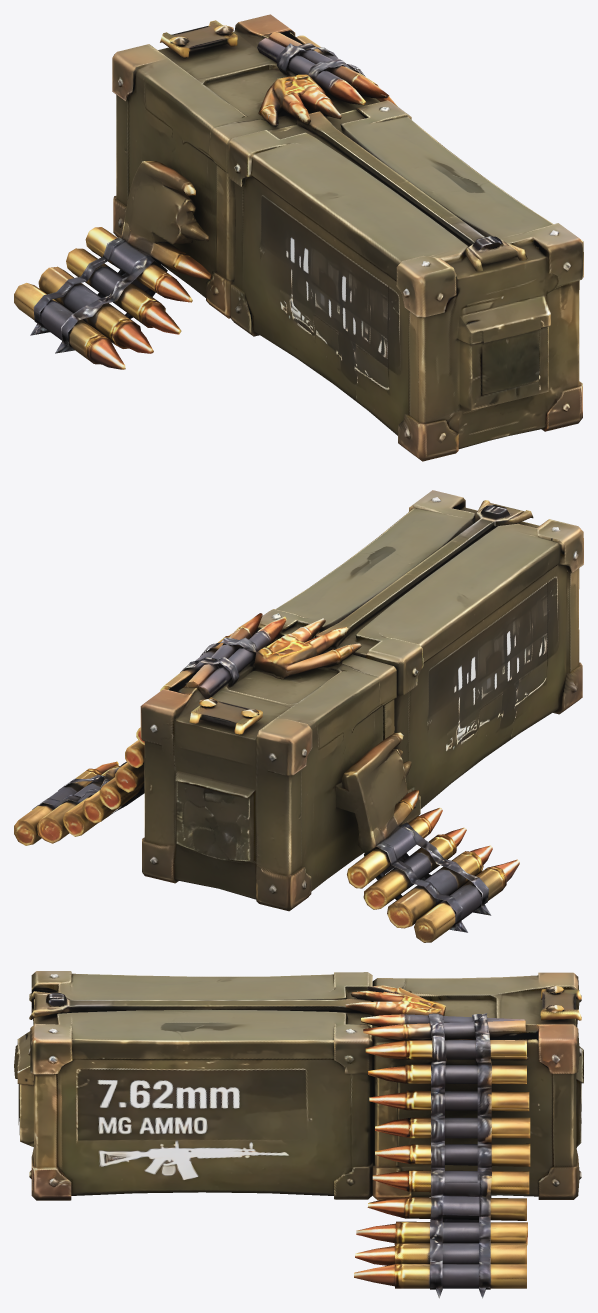
File: base_basic_shaded.glb
The picture shows the model from 3 angles, top to bottom: view 1: azimuth 30°, elevation 25°; view 2: azimuth 150°, elevation 25°; view 3: azimuth 270°, elevation 25°; orthographic projection. The views are drawn at different scales.
Visible parts, largest first — view 1: model; view 2: model; view 3: model.
Boxes of the visible parts, x1,y1,x2,y2 form: model: (14,14,583,461); model: (14,490,583,942); model: (14,971,583,1298).
Size of the model in its own units: 0.648 by 0.3 by 0.7806.
Materials: 1 (1 with a texture image).
